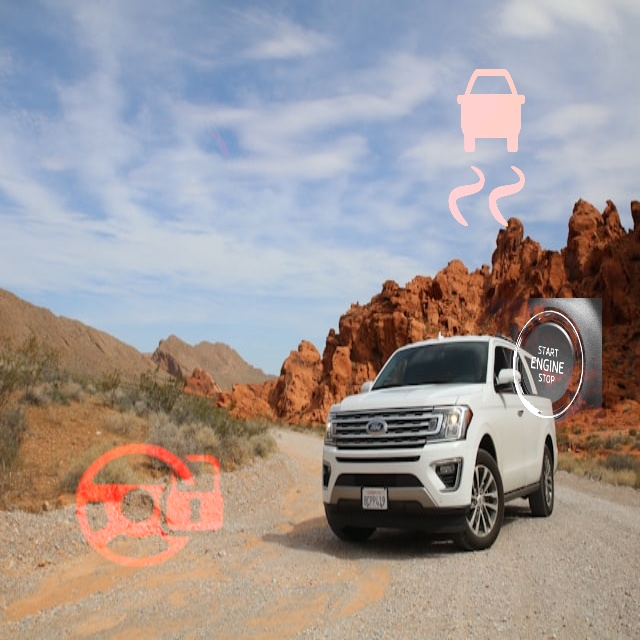symbol: (67, 62, 286, 281), (388, 47, 590, 249), (51, 407, 251, 607), (465, 298, 602, 435)
